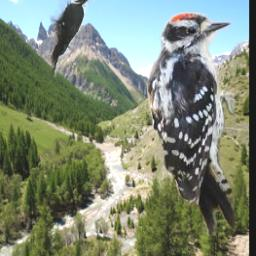Woodpecker: (145, 12, 236, 236), (44, 0, 94, 77)
